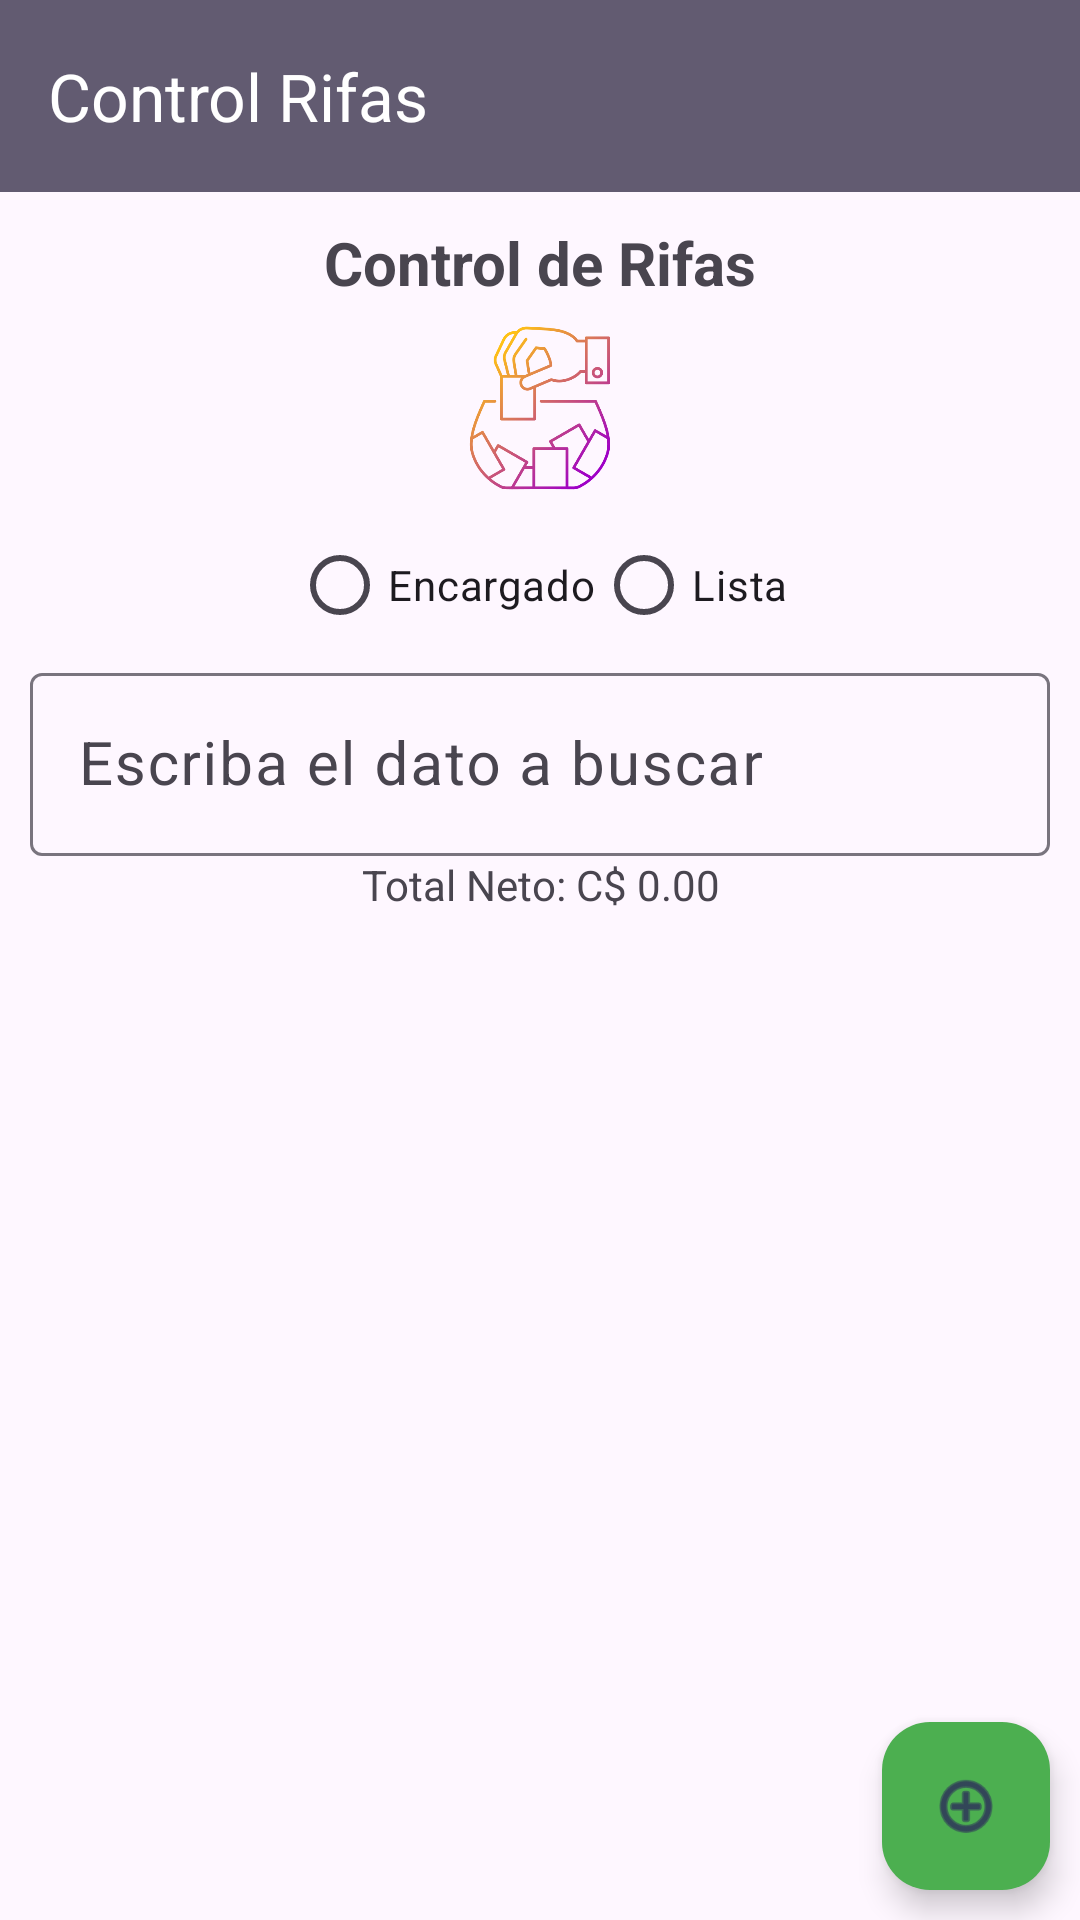

Point at icon controls on the screen. Image size 1080px×1920px, points as (x,y).
Agregar Nuevo Registro: (966,1806)
